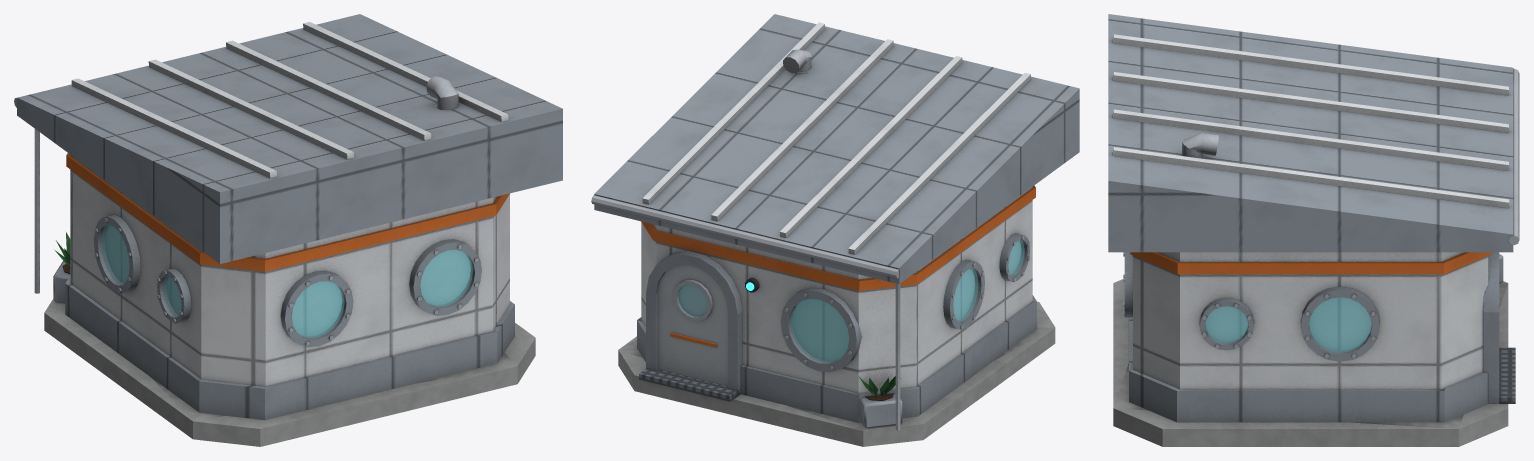
Rendered from casa_pequena_b.fbx.
3 renders of one model, left to right at view 1: azimuth 30°, elevation 25°; view 2: azimuth 150°, elevation 25°; view 3: azimuth 270°, elevation 25°, orthographic. The views are drawn at different scales.
Visible parts, largest first — view 1: casa_pequena_b, casa_pequena_b_cristal; view 2: casa_pequena_b, casa_pequena_b_puerta, casa_pequena_b_cristal; view 3: casa_pequena_b, casa_pequena_b_cristal.
Part boxes in pixels (x1=…): casa_pequena_b: x1=14, y1=14, x2=562, y2=446; casa_pequena_b_cristal: x1=101, y1=224, x2=472, y2=337; casa_pequena_b: x1=591, y1=14, x2=1079, y2=446; casa_pequena_b_puerta: x1=658, y1=264, x2=727, y2=386; casa_pequena_b_cristal: x1=677, y1=240, x2=1024, y2=362; casa_pequena_b: x1=1108, y1=14, x2=1519, y2=446; casa_pequena_b_cristal: x1=1205, y1=297, x2=1371, y2=352.
Size of the model in its own units: 8 by 6.22 by 8.33.
3 materials, 3 textured.
